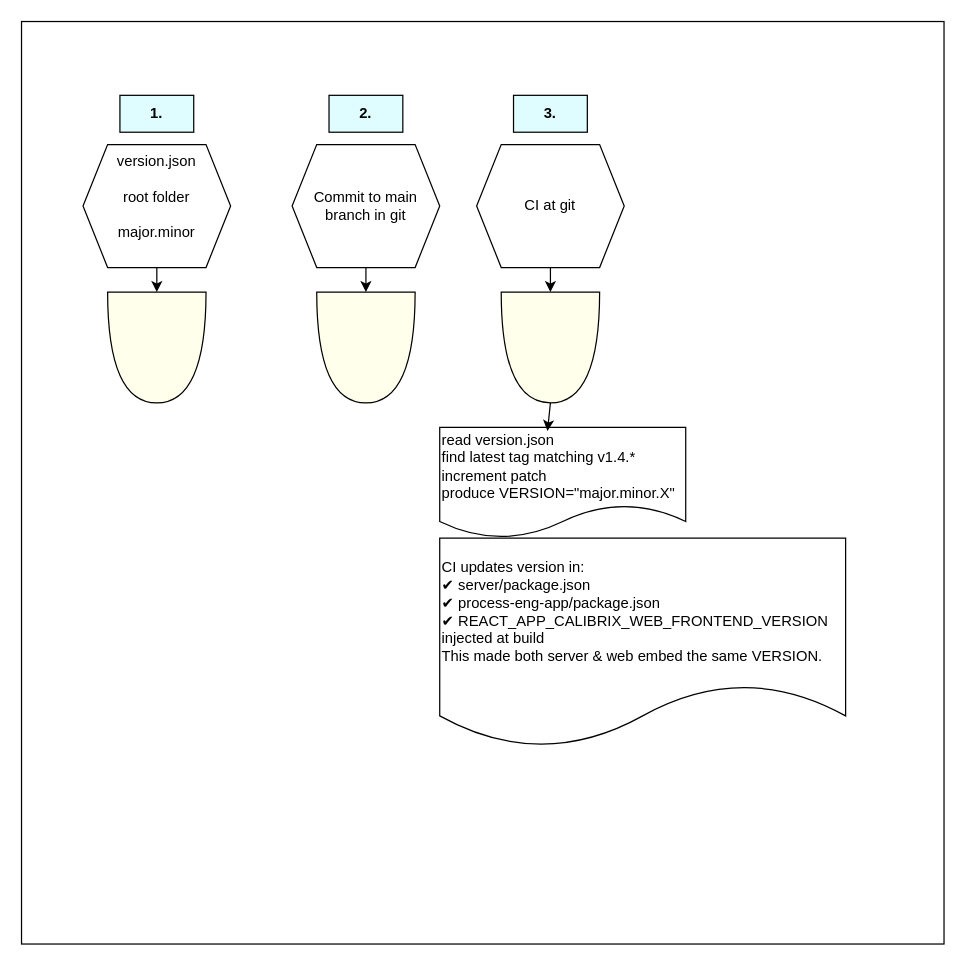
Some shapes in this 966 by 966 pixel diagram are drawn without their labels. Each missing label, with the centre of its shape:
"Automatic" goes at point 550,347.
"Manually update for new version" goes at point 156,347.
"Manually, any change" goes at point 365,347.
